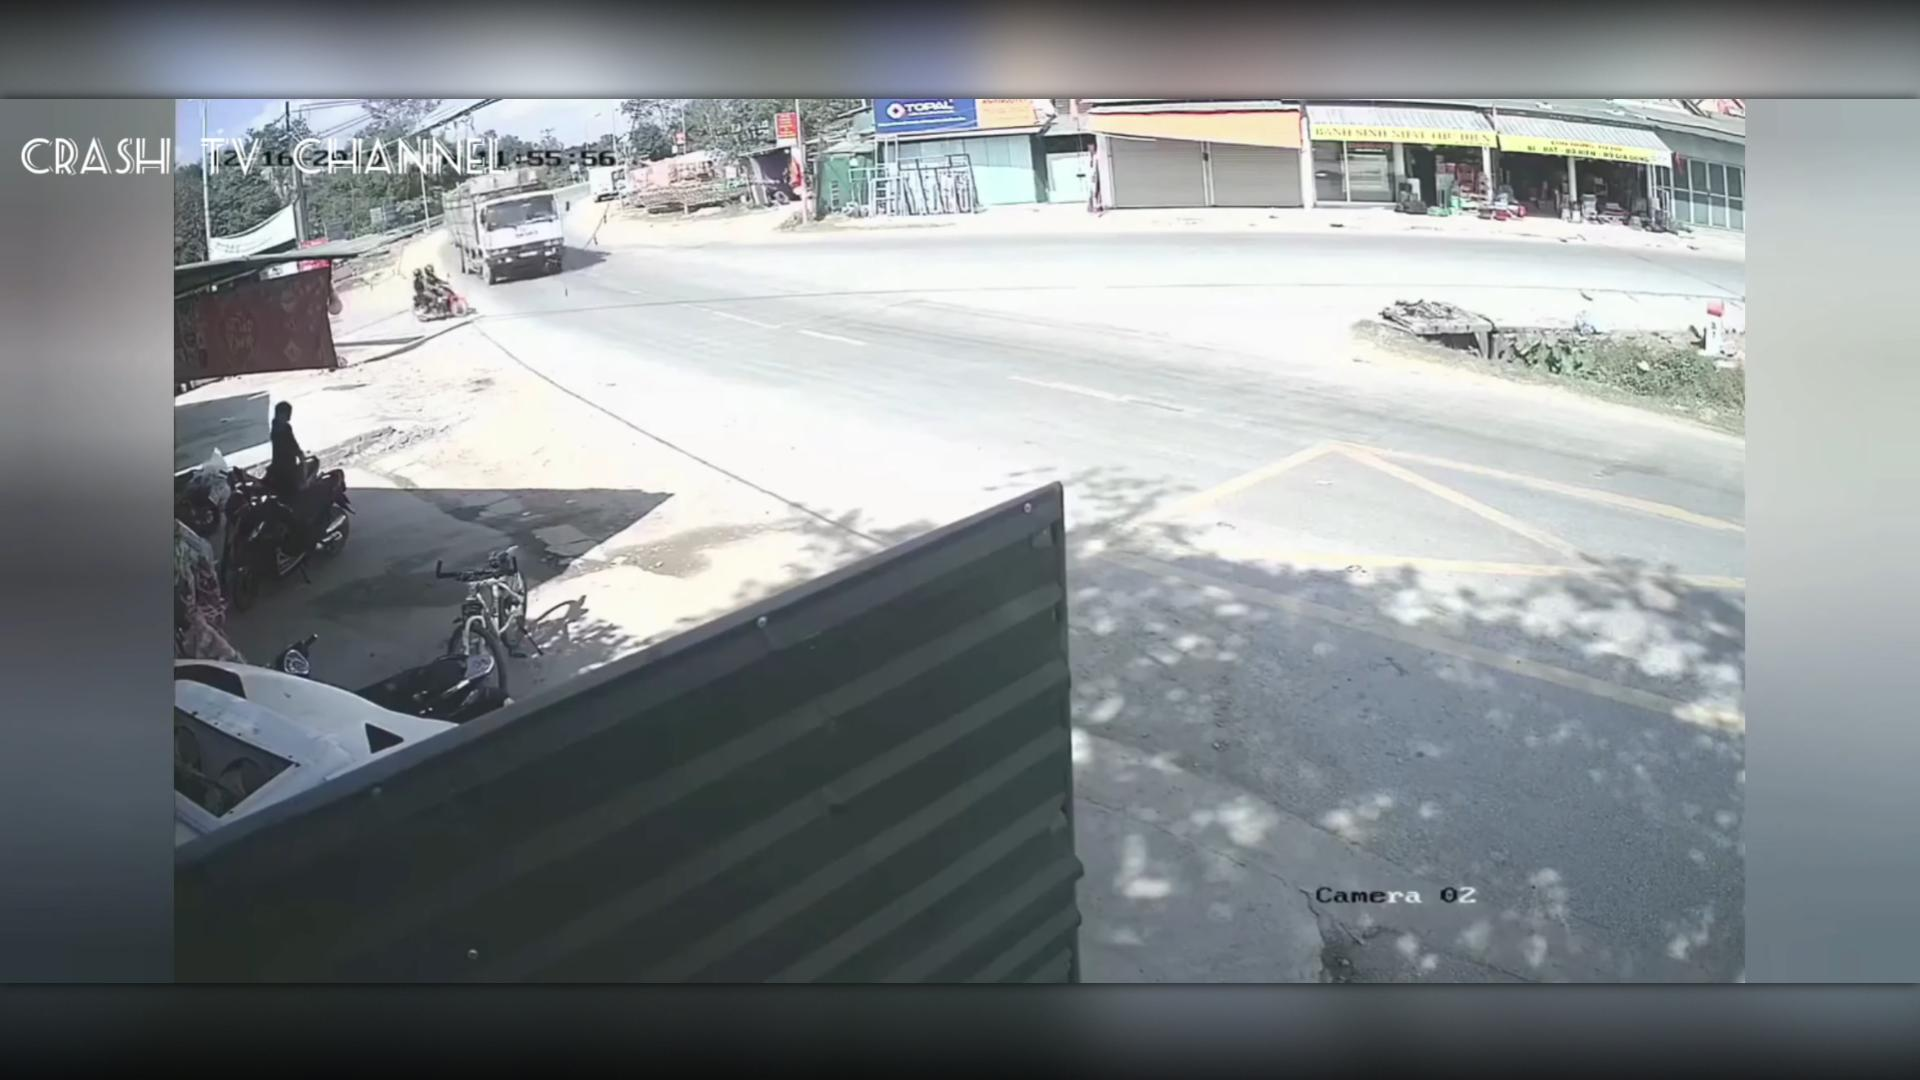motorcycle: (401, 261, 471, 332)
truck: (435, 174, 582, 282)
